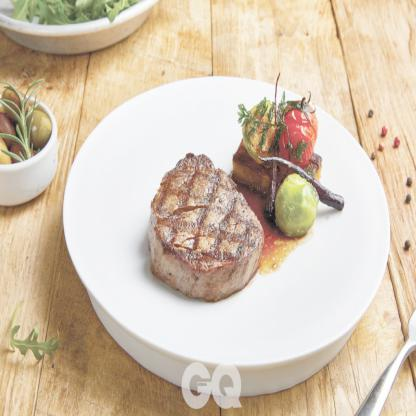Carne: (143, 150, 267, 307)
